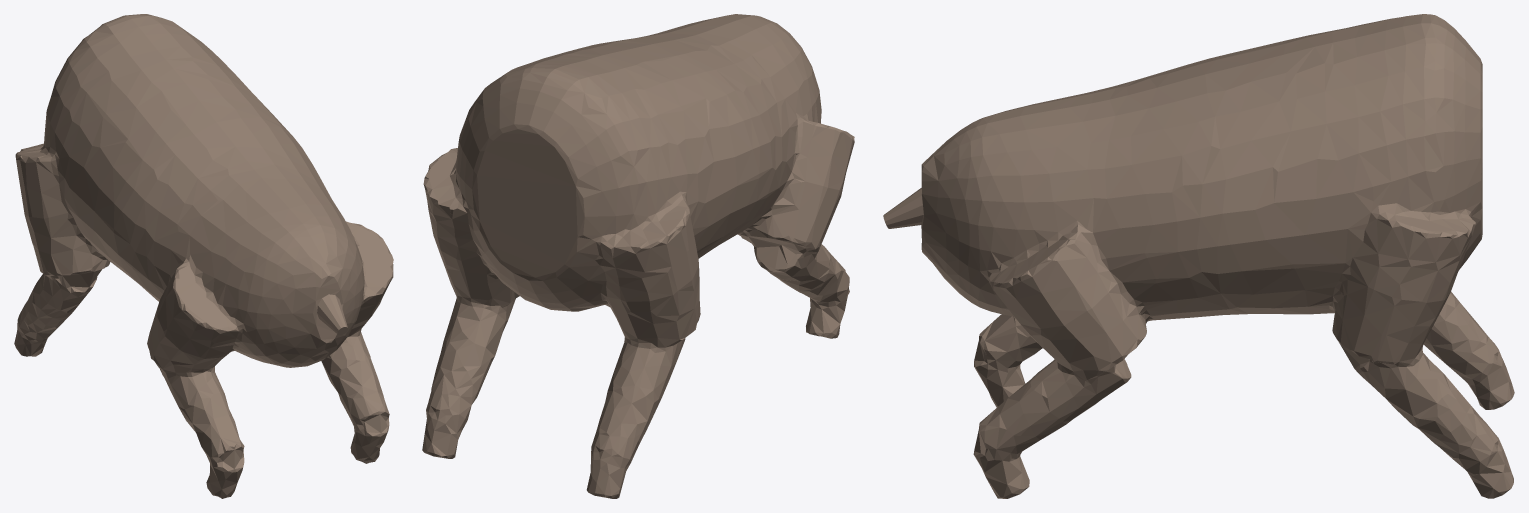
File: bear_body_01.glb
3 renders of one model, left to right at view 1: azimuth 30°, elevation 25°; view 2: azimuth 150°, elevation 25°; view 3: azimuth 270°, elevation 25°, orthographic. The views are drawn at different scales.
Visible parts, largest first — view 1: ConnectedBodyTailLimbs, Tail; view 2: ConnectedBodyTailLimbs; view 3: ConnectedBodyTailLimbs, Tail.
Boxes of the visible parts, x1,y1,x2,y2 form: ConnectedBodyTailLimbs: (14,14,393,498); Tail: (317,294,347,335); ConnectedBodyTailLimbs: (422,14,854,498); ConnectedBodyTailLimbs: (921,14,1514,498); Tail: (883,188,923,228).
Size of the model in its own units: 1.02 by 1.48 by 1.98.
